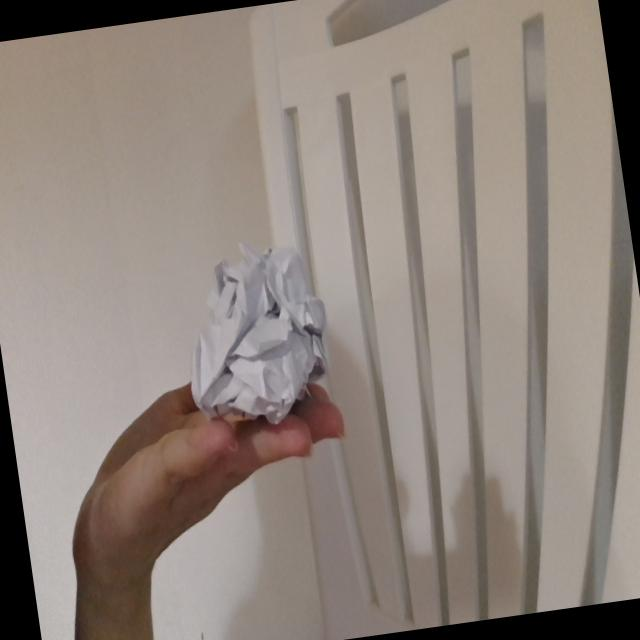crumpled_paper: (167, 224, 346, 442)
